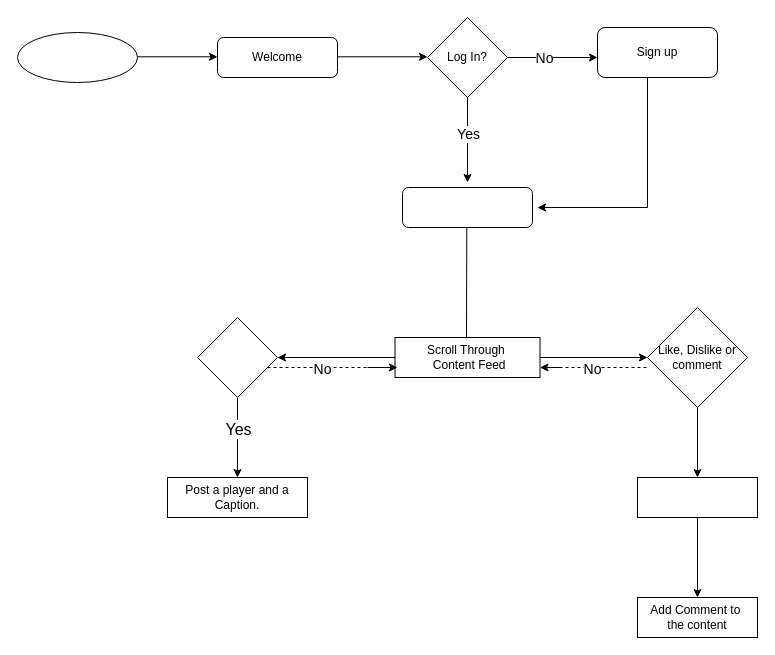
Image size: 775x655. Some labels were removed from this diagram. Each missing label, with the box of its shape:
Home: (402, 186, 532, 228)
like or dislike the content.: (636, 476, 758, 518)
Post: (196, 316, 278, 398)
START: (16, 32, 138, 82)
